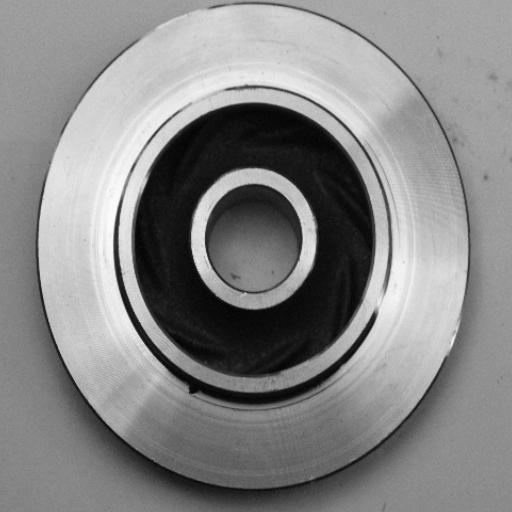crack: (174, 375, 219, 404)
scratch: (173, 80, 259, 119)
unpolished_casting: (34, 0, 473, 495)
